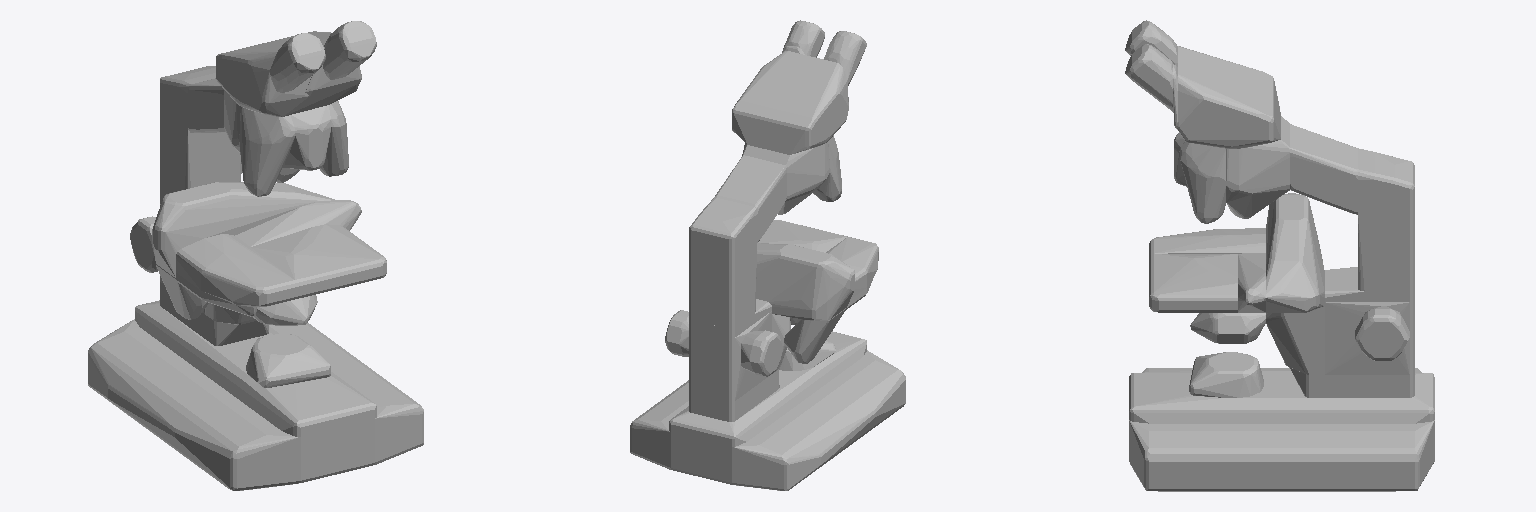
robot.urdf — root:
<?xml version="1.0"?>
<robot name="root">
  <link name="base_link">
    <visual>
      <origin xyz="0 0 0" rpy="0 0 0" />
      <geometry>
        <mesh filename="../meshes/unidex_sem_Microscope-c111643047f34e8c84fc81a3117e11ad_012.obj" scale="1.0000E+00 1.0000E+00 1.0000E+00" />
      </geometry>
      <material name="">
        <color rgba="7.50E-01 7.50E-01 7.50E-01 1" />
      </material>
    </visual>
    <collision>
      <origin xyz="0 0 0" rpy="0 0 0" />
      <geometry>
        <mesh filename="../meshes/unidex_sem_Microscope-c111643047f34e8c84fc81a3117e11ad_012.obj" scale="1.0000E+00 1.0000E+00 1.0000E+00" />
      </geometry>
    </collision>
  </link>
</robot>

--- What the picture shows (computed from the rendered views, not written in the file) ---
Views: 3 orthographic renders of the robot side by side, from view 1: azimuth 30°, elevation 25°; view 2: azimuth 150°, elevation 25°; view 3: azimuth 270°, elevation 25°.
Robot: root — 1 links, 0 joints (none); root link base_link; default pose: all joints at 0.
Visible links, largest first — view 1: base_link; view 2: base_link; view 3: base_link.
Boxes of the visible links, x1,y1,x2,y2 form: base_link: (88, 21, 423, 490); base_link: (630, 20, 905, 490); base_link: (1125, 20, 1434, 491).
Bounding box of the posed robot: 0.0915 × 0.1284 × 0.1912 m (x, y, z).
1 mesh visuals loaded from 1 distinct referenced files (1 OBJ).
